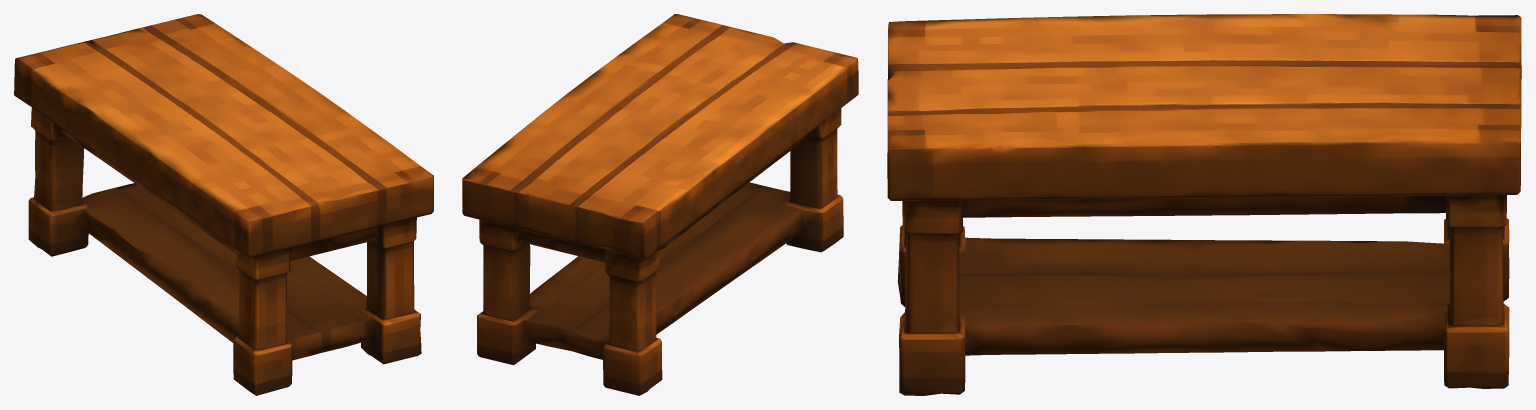
The model's file is kitchen-table.glb.
The picture shows the model from 3 angles, left to right: view 1: azimuth 30°, elevation 25°; view 2: azimuth 150°, elevation 25°; view 3: azimuth 270°, elevation 25°; orthographic projection. The views are drawn at different scales.
Parts seen in each view (by area): view 1: tripo_node_687ea1bd-dbae-4ea6-bdae-720e22ea9591; view 2: tripo_node_687ea1bd-dbae-4ea6-bdae-720e22ea9591; view 3: tripo_node_687ea1bd-dbae-4ea6-bdae-720e22ea9591.
Part boxes in pixels (<box>): tripo_node_687ea1bd-dbae-4ea6-bdae-720e22ea9591: <box>14,14,433,395</box>; tripo_node_687ea1bd-dbae-4ea6-bdae-720e22ea9591: <box>462,14,858,395</box>; tripo_node_687ea1bd-dbae-4ea6-bdae-720e22ea9591: <box>887,14,1521,395</box>.
Bounding box in the file's own units: 0.6271 × 0.5645 × 1.25.
1 material, 1 textured.
